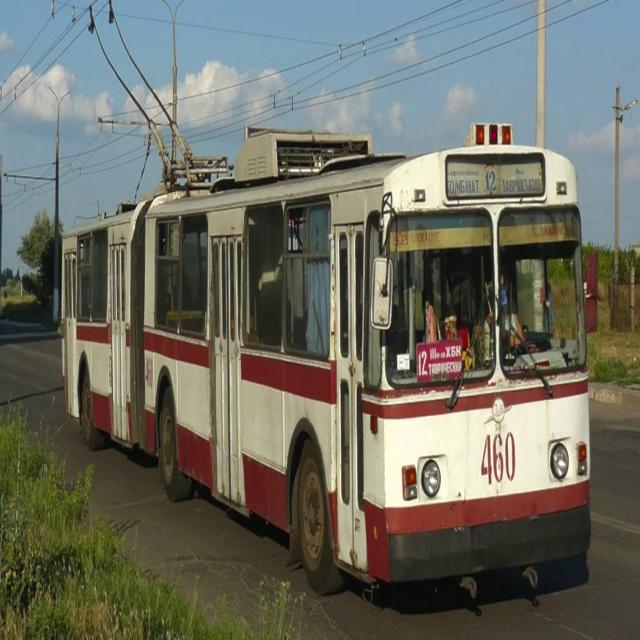bus: (55, 115, 597, 640)
